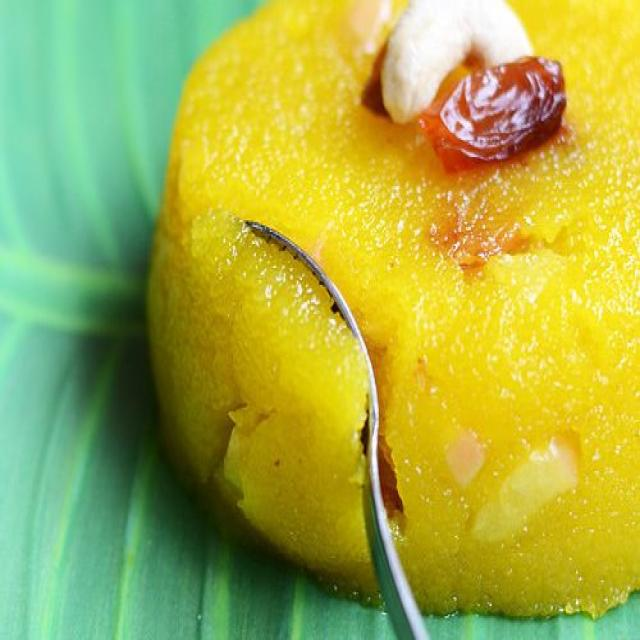kesari bath: (128, 0, 640, 633)
